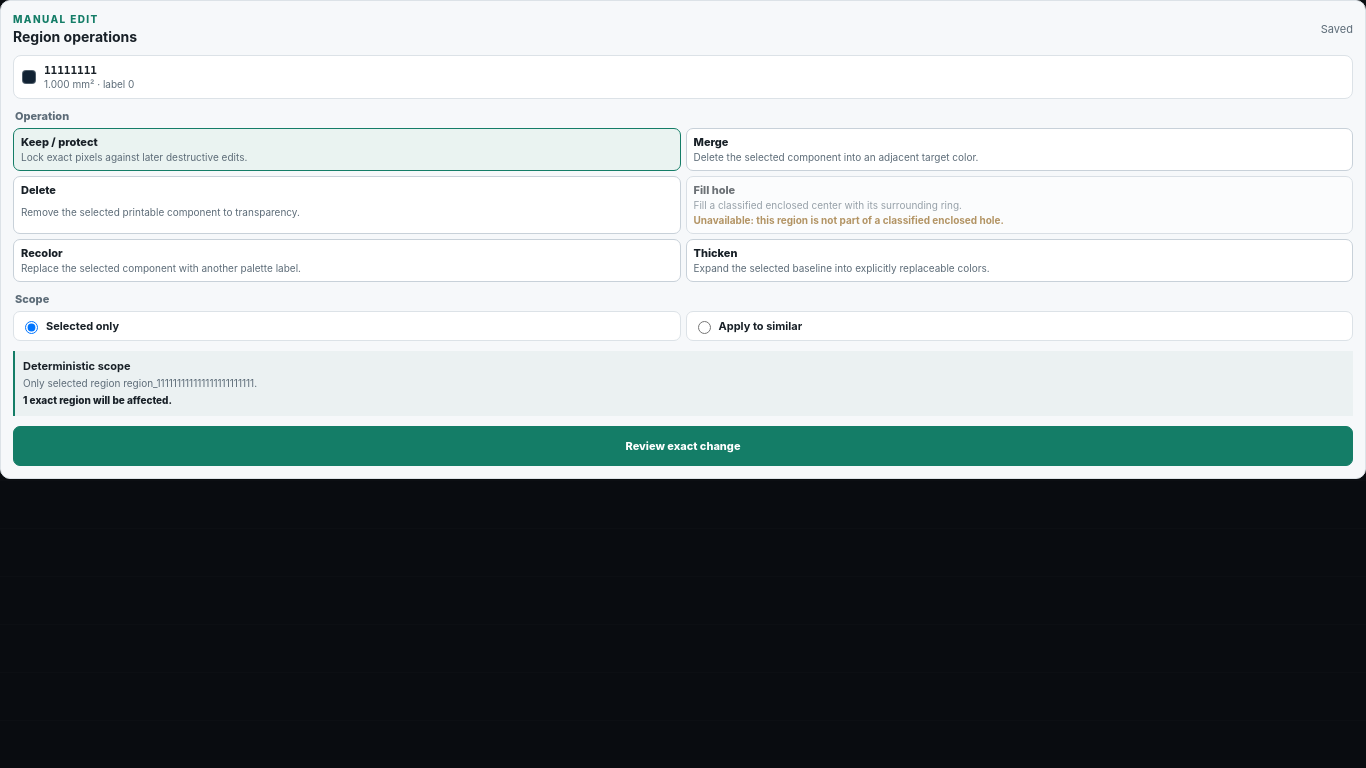
Test: ManualOperationsPanel › blocks unsafe apply-to-similar merge and invalid thicken inputs
Click the button "Merge": (711, 142) [686,128,1353,171]
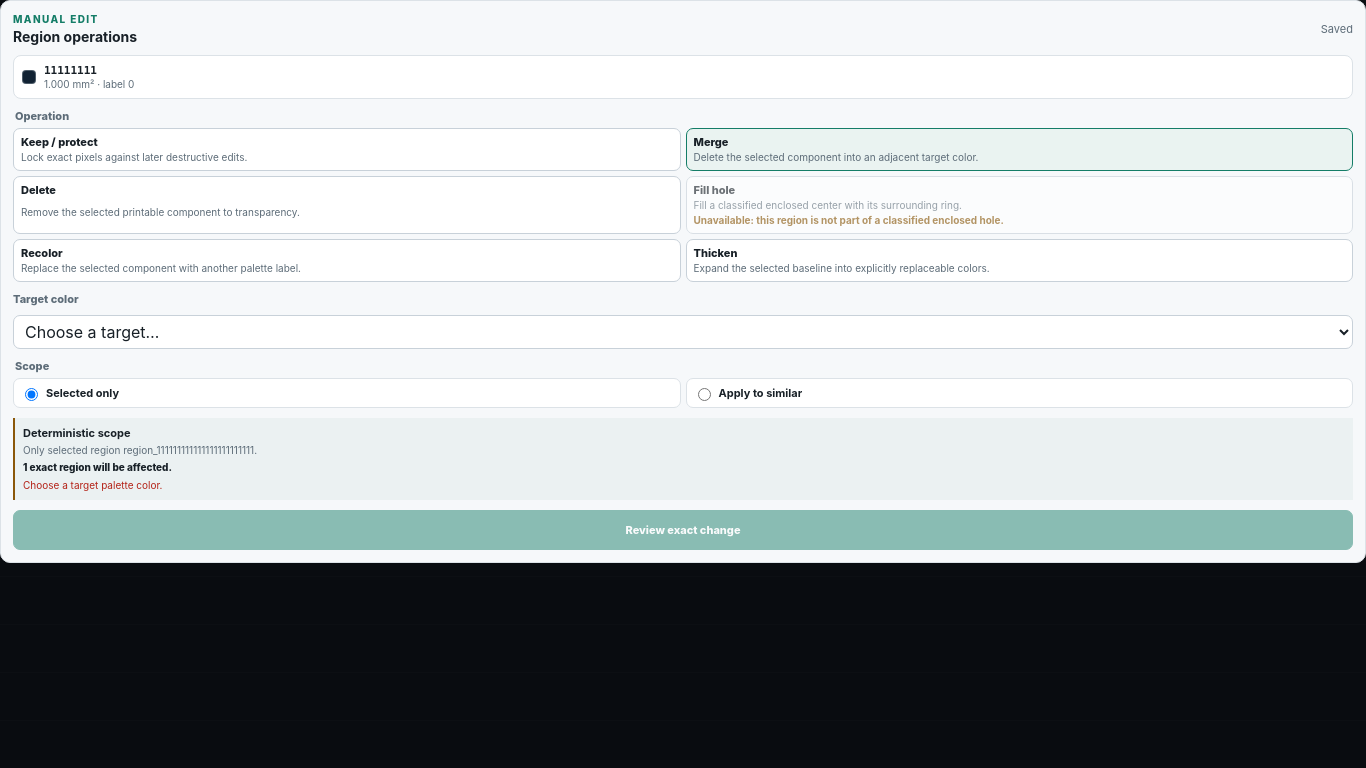
Select "Orange · #FF6600" in the dropdown labelled "Target color": (683, 332) [13,315,1353,349]
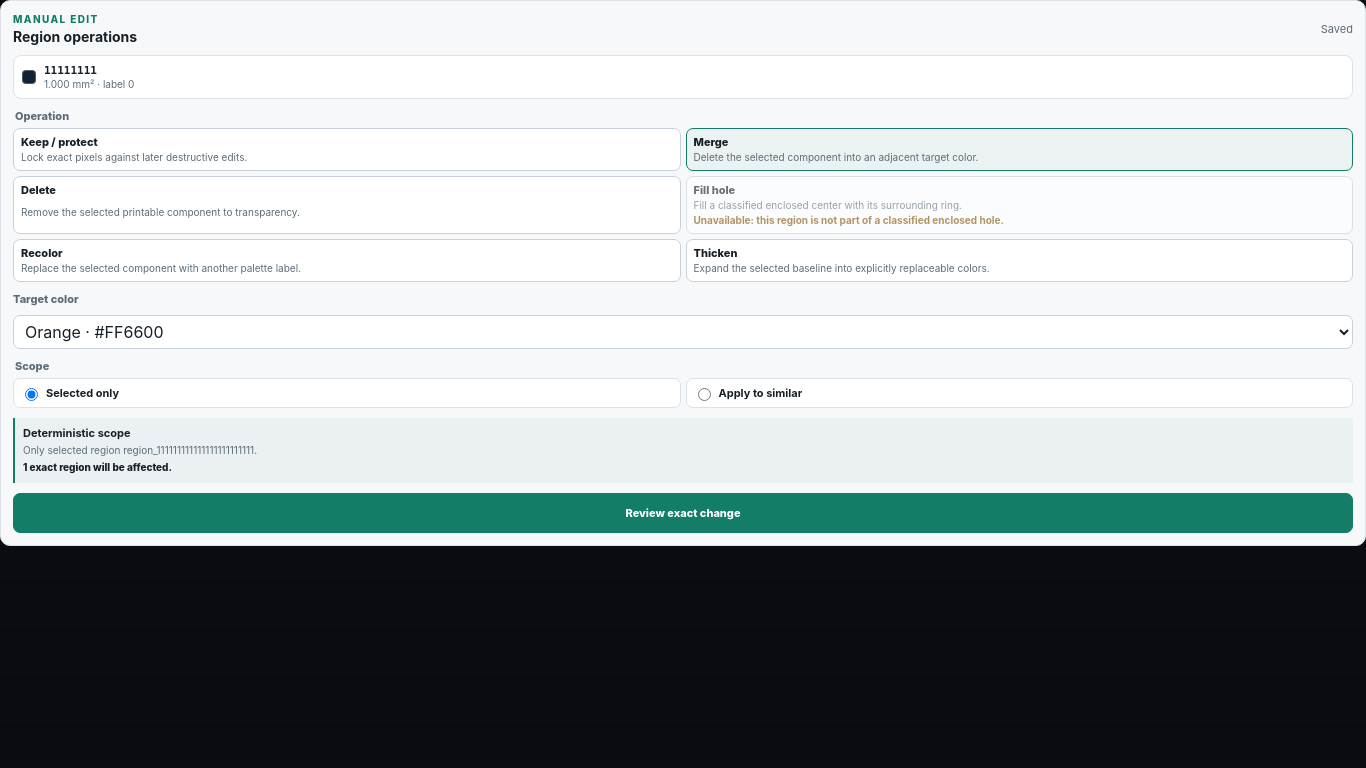
Click the radio button labelled "Apply to similar": (704, 394) [698,388,710,401]
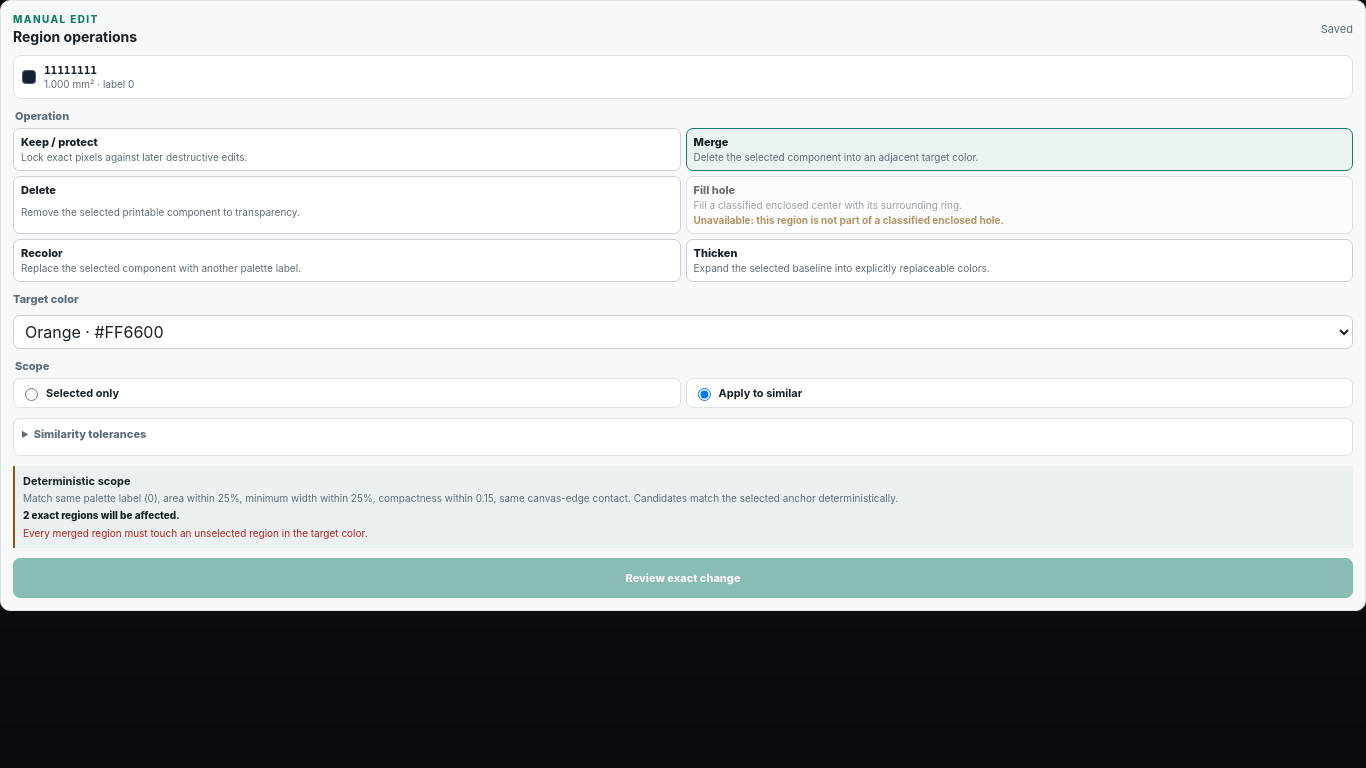
Now the message shows "Every merged region must touch", box [23,527,368,539]
Now the button "Review exact change" is disabled, box [13,558,1353,598]
Click the button "Thicken": (715, 253) [686,239,1353,282]
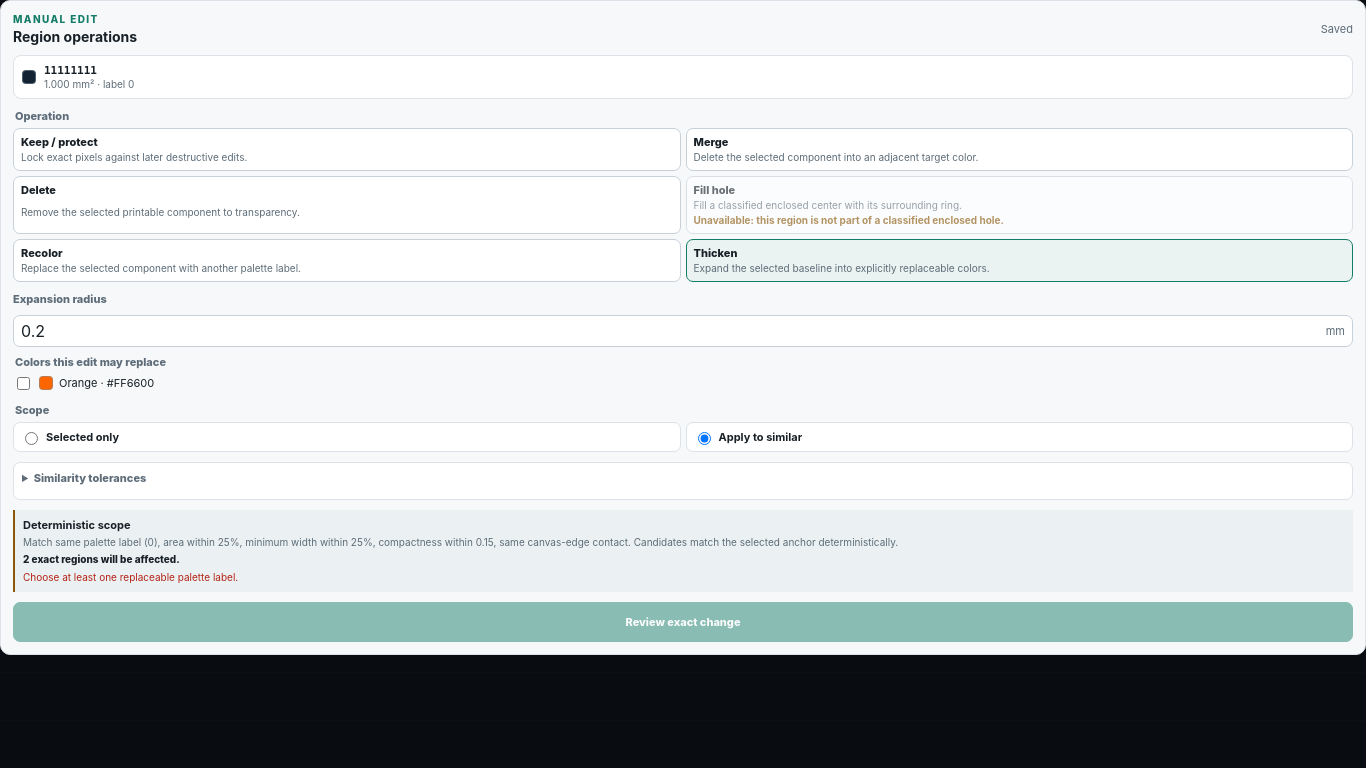
Now the message shows "Choose at least one replaceable", box [23,571,238,583]
Replace the text in the number field named "Expansion radius millimetres" with "0": (666, 331) [14,316,1318,346]
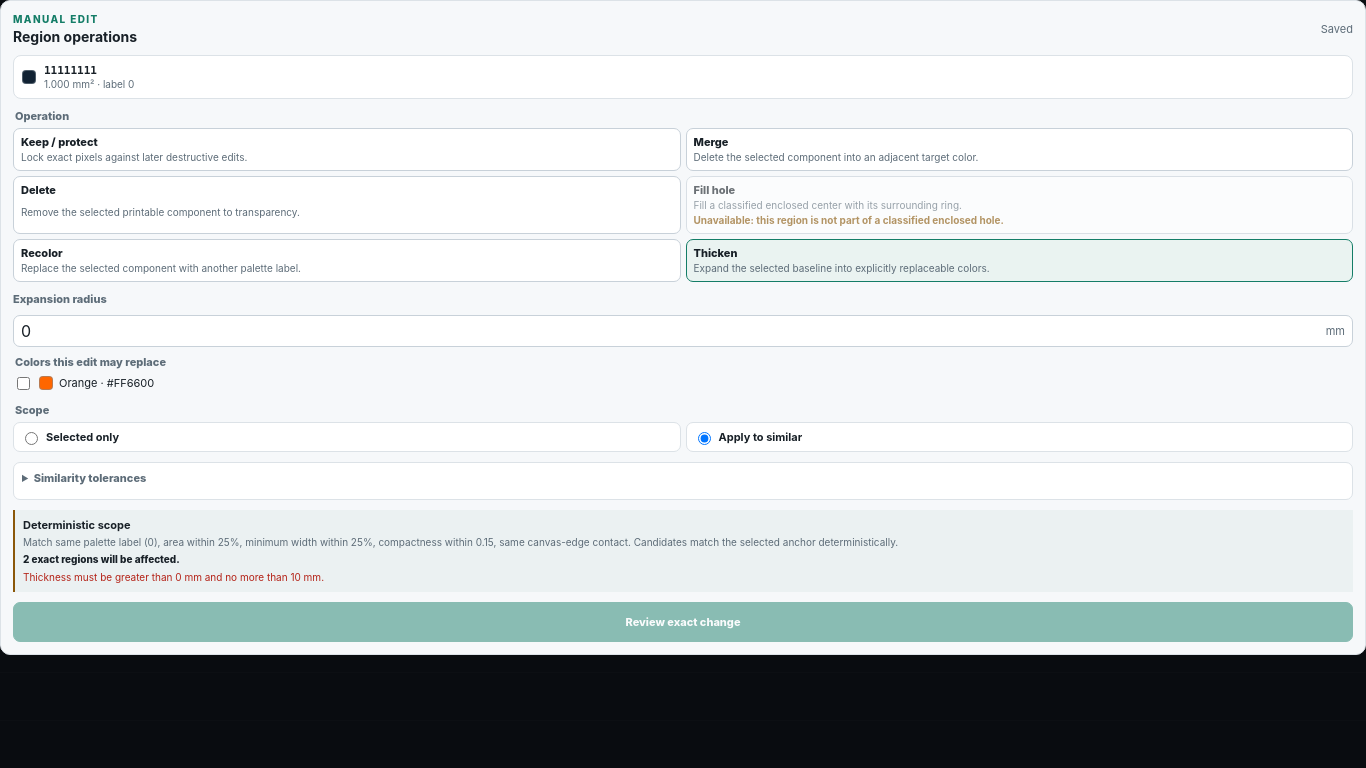
Now the message shows "Thickness must be greater than 0", box [23,571,324,583]
